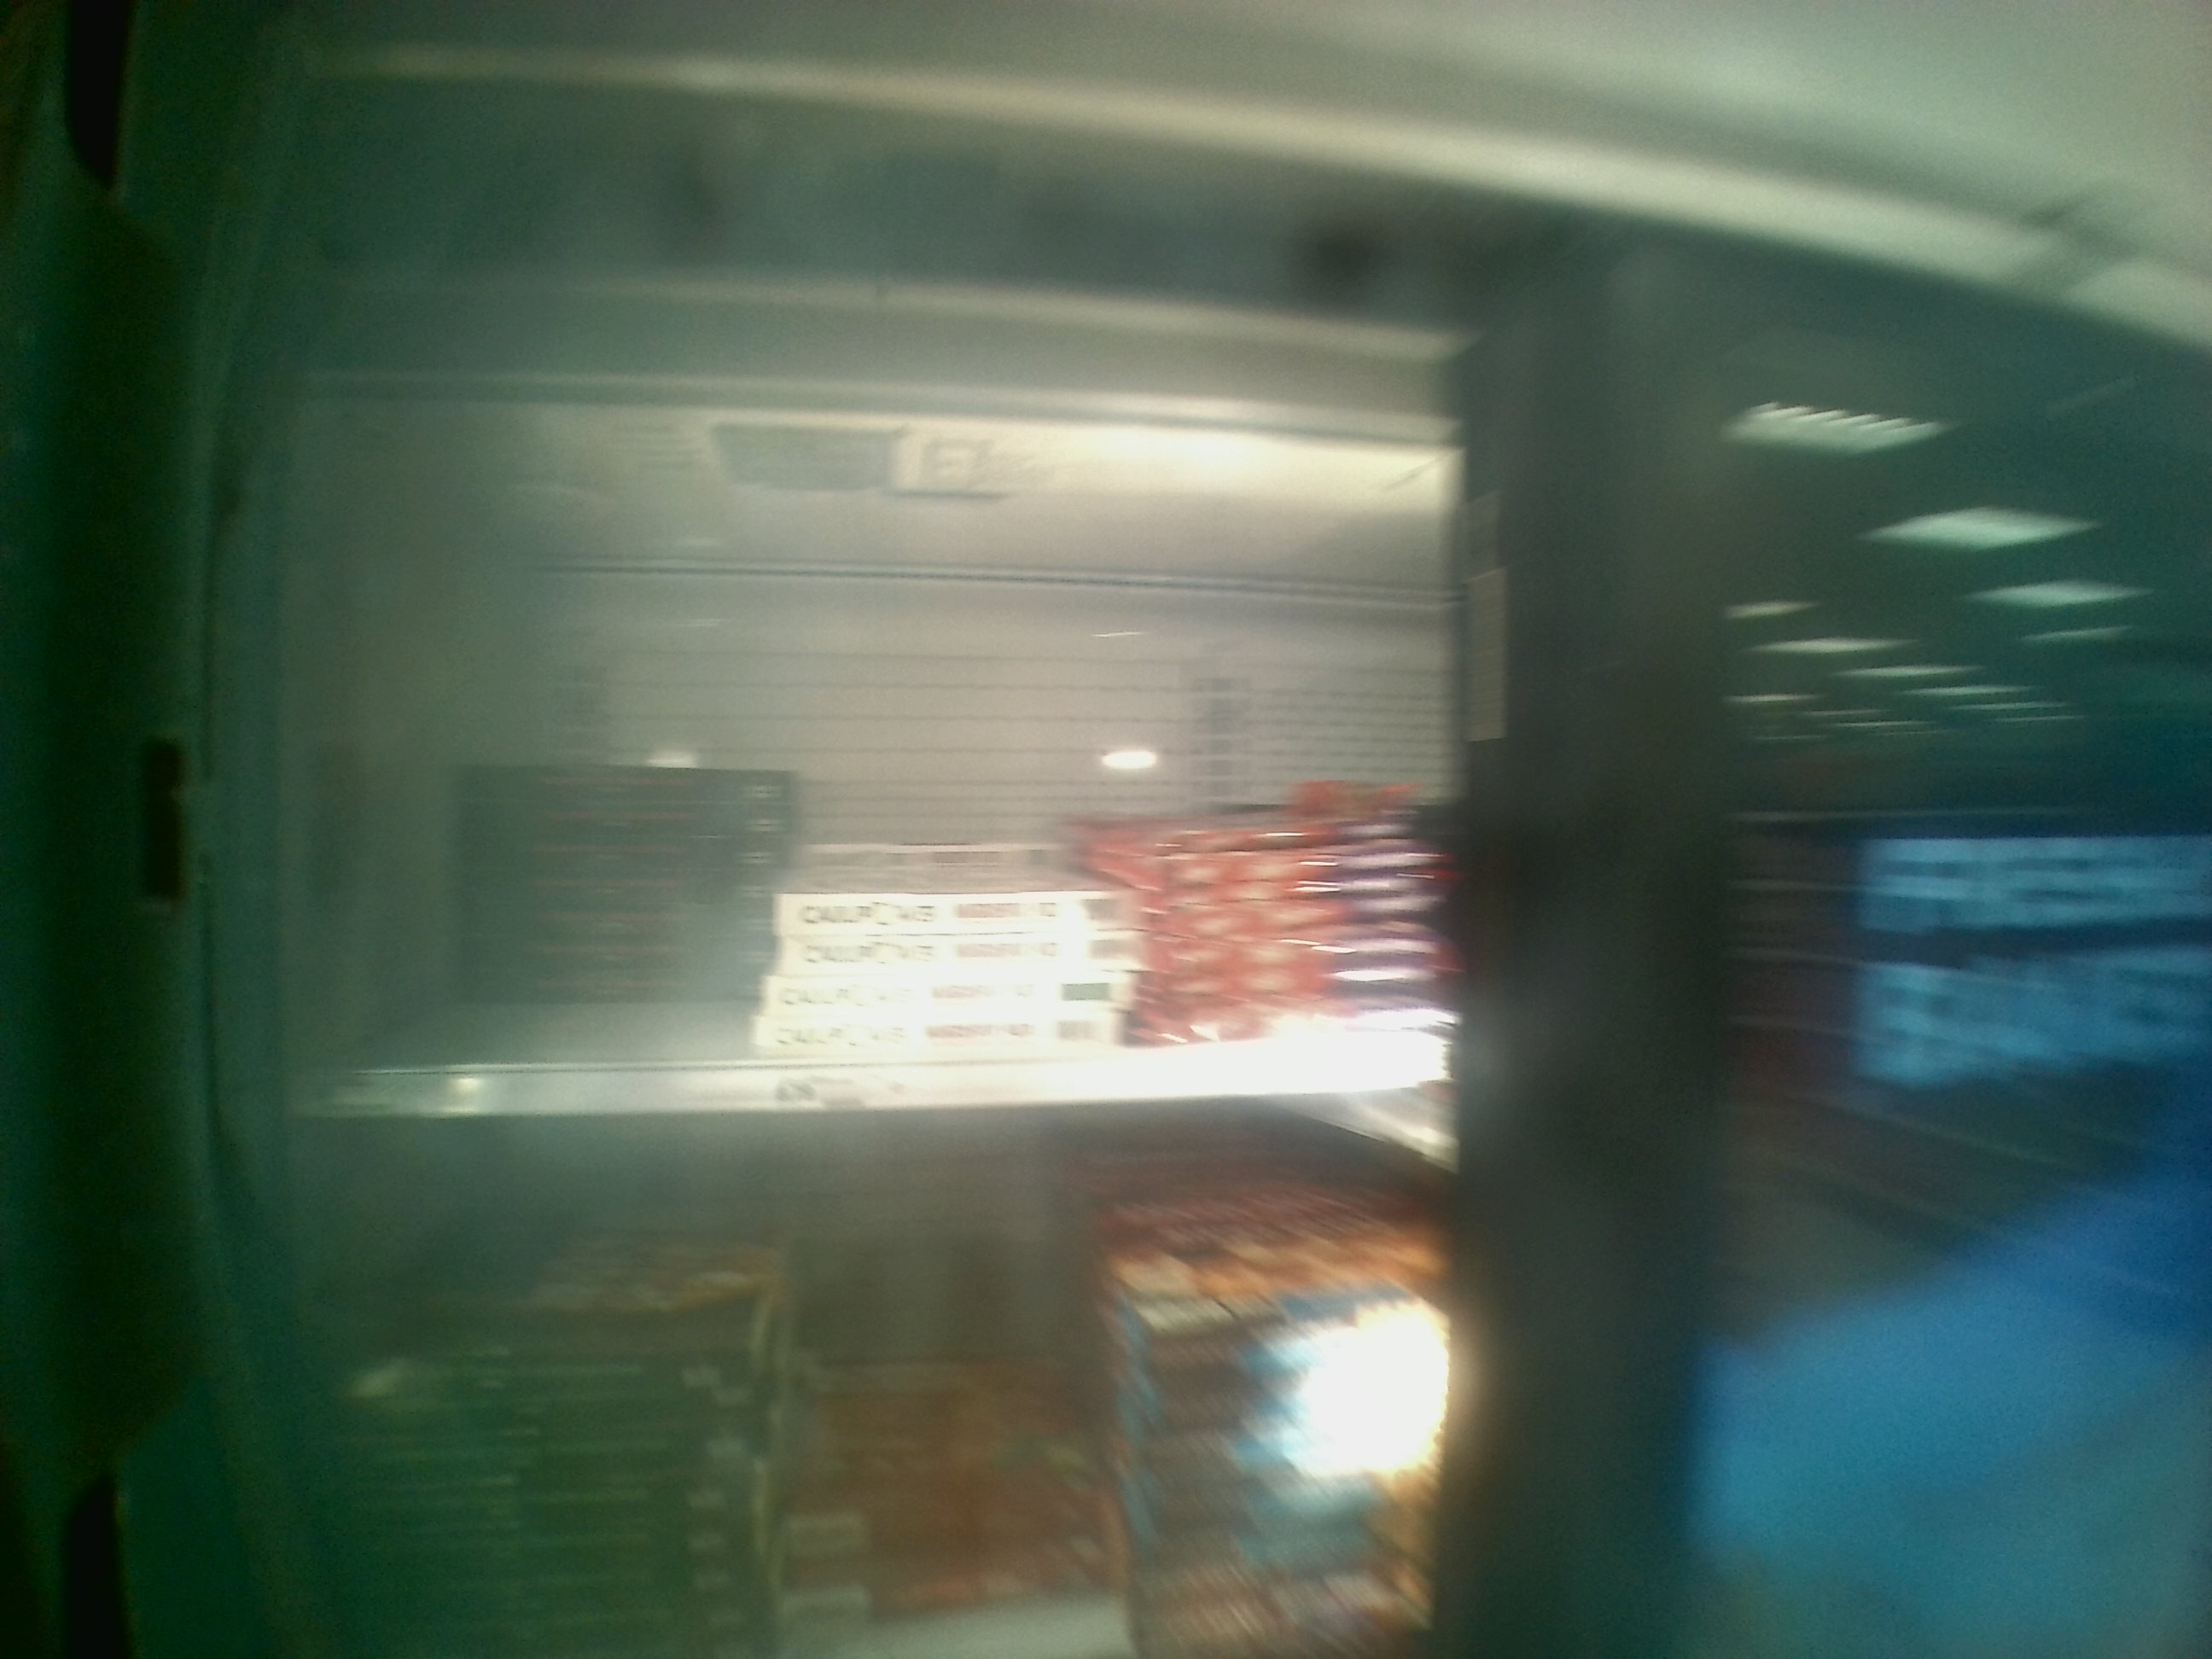pizza: (1099, 1169, 1420, 1352), (789, 1305, 1090, 1499), (362, 1199, 747, 1342), (766, 1009, 1129, 1063), (779, 894, 1144, 938), (787, 938, 1137, 983), (787, 1563, 1111, 1612), (1150, 1478, 1421, 1535), (362, 1577, 742, 1615), (1151, 1598, 1430, 1649), (467, 774, 806, 814), (352, 1391, 756, 1422), (1150, 1535, 1435, 1579), (331, 1445, 766, 1473), (1137, 1380, 1425, 1422), (350, 1483, 761, 1511), (350, 1347, 728, 1377), (361, 1535, 758, 1563), (770, 1513, 1085, 1547), (472, 920, 749, 955), (462, 960, 728, 995), (1137, 1436, 1432, 1467), (462, 854, 756, 884), (773, 983, 1103, 1006), (475, 826, 784, 843), (477, 885, 763, 903)
